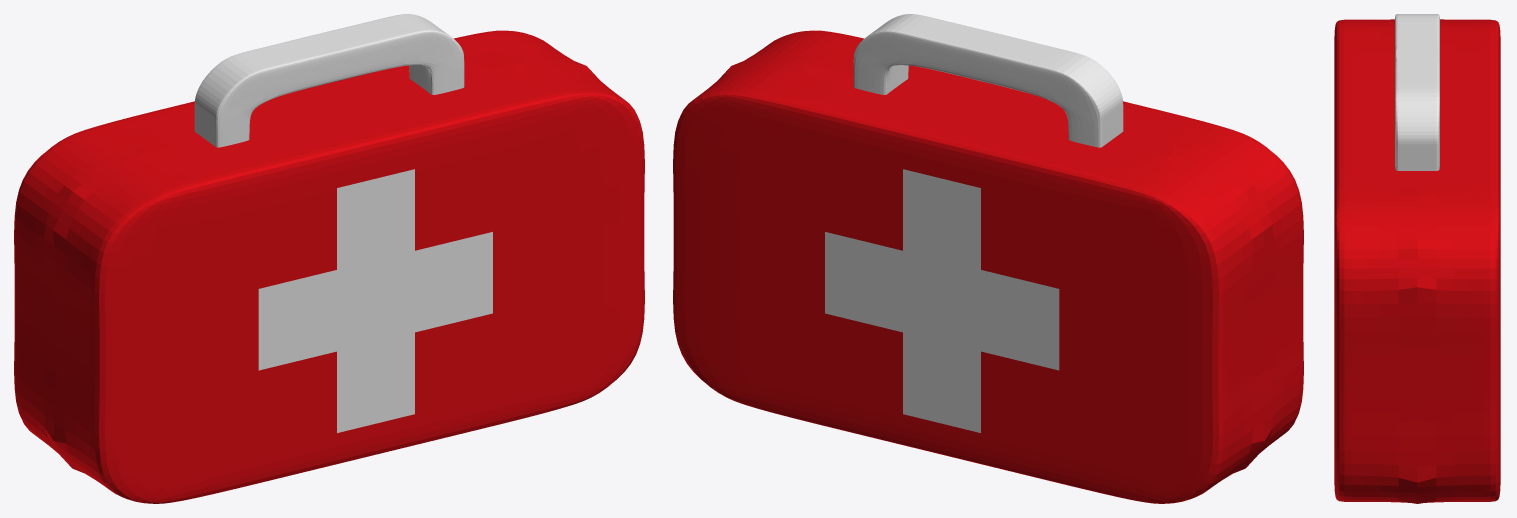
File: medkit.fbx
The picture shows the model from 3 angles, left to right: view 1: azimuth 30°, elevation 25°; view 2: azimuth 150°, elevation 25°; view 3: azimuth 270°, elevation 25°; orthographic projection. The views are drawn at different scales.
Parts seen in each view (by area): view 1: Plane, Plane.005, Plane.003; view 2: Plane, Plane.005, Plane.003; view 3: Plane, Plane.003.
Part boxes in pixels (x1=…): Plane: x1=14, y1=30, x2=644, y2=503; Plane.005: x1=258, y1=169, x2=492, y2=432; Plane.003: x1=194, y1=14, x2=464, y2=147; Plane: x1=673, y1=30, x2=1303, y2=503; Plane.005: x1=825, y1=169, x2=1059, y2=432; Plane.003: x1=853, y1=14, x2=1123, y2=147; Plane: x1=1334, y1=19, x2=1500, y2=503; Plane.003: x1=1395, y1=14, x2=1439, y2=170.
Bounding box in the file's own units: 41.26 × 27.34 × 11.99.
